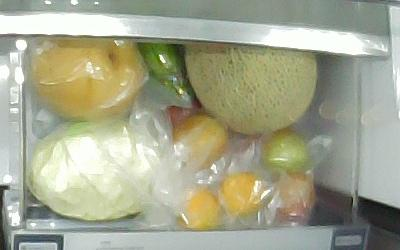cabbage_vinyl: (30, 121, 158, 221)
melon: (185, 40, 317, 134)
pear_vinyl: (31, 35, 141, 121)
prune_vinyl: (174, 113, 226, 168)
tangerine_vinyl: (217, 171, 266, 214), (177, 189, 222, 230)
tomato_vinyl: (270, 172, 313, 215), (262, 129, 307, 169)
zucchini: (136, 42, 193, 102)
